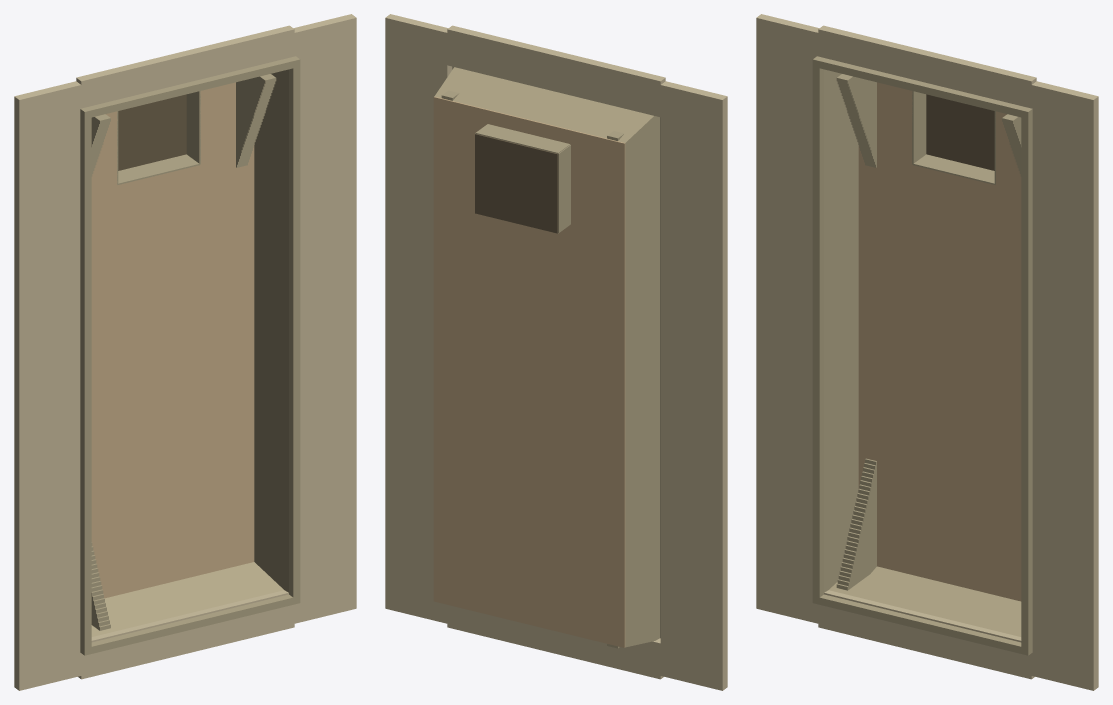
Rendered from dholavira-reservoir.obj.
3 views of the same model, side by side, from view 1: azimuth 30°, elevation 25°; view 2: azimuth 150°, elevation 25°; view 3: azimuth 330°, elevation 25° (orthographic).
Visible parts, largest first — view 1: basin_8, ground_0, ground_1, basin_5, ground_3, basin_14, basin_15, ground_2, basin_4, probe_16, basin_13, basin_10 (+4 smaller); view 2: basin_8, ground_0, ground_1, basin_7, ground_3, probe_16, basin_6, ground_2, basin_9, basin_10, basin_11, probe_20 (+1 smaller); view 3: basin_8, ground_1, ground_0, basin_7, ground_3, basin_15, basin_14, ground_2, basin_4, probe_16, basin_13, basin_9 (+4 smaller).
Boxes of the visible parts, left/top/right/bottom form: basin_8: left=91, top=151, right=254, bottom=598; ground_0: left=14, top=81, right=81, bottom=690; ground_1: left=293, top=14, right=356, bottom=623; basin_5: left=254, top=69, right=288, bottom=592; ground_3: left=76, top=25, right=294, bottom=108; basin_14: left=80, top=116, right=91, bottom=648; basin_15: left=289, top=67, right=300, bottom=597; ground_2: left=78, top=590, right=294, bottom=679; basin_4: left=91, top=562, right=283, bottom=636; probe_16: left=118, top=94, right=186, bottom=170; basin_13: left=80, top=56, right=300, bottom=118; basin_10: left=200, top=82, right=254, bottom=163; basin_8: left=433, top=191, right=625, bottom=647; ground_0: left=660, top=81, right=727, bottom=690; ground_1: left=385, top=14, right=452, bottom=623; basin_7: left=625, top=116, right=659, bottom=647; ground_3: left=447, top=25, right=665, bottom=117; probe_16: left=475, top=133, right=558, bottom=233; basin_6: left=434, top=67, right=653, bottom=142; ground_2: left=447, top=605, right=663, bottom=679; basin_9: left=570, top=130, right=625, bottom=237; basin_10: left=433, top=96, right=487, bottom=200; basin_11: left=487, top=109, right=570, bottom=143; probe_20: left=475, top=124, right=570, bottom=153; basin_8: left=858, top=151, right=1021, bottom=601; ground_1: left=1031, top=81, right=1098, bottom=690; ground_0: left=756, top=14, right=819, bottom=623; basin_7: left=824, top=69, right=858, bottom=592; ground_3: left=818, top=25, right=1036, bottom=108; basin_15: left=1021, top=116, right=1032, bottom=648; basin_14: left=812, top=67, right=823, bottom=597; ground_2: left=818, top=590, right=1034, bottom=679; basin_4: left=829, top=566, right=1021, bottom=636; probe_16: left=926, top=94, right=994, bottom=170; basin_13: left=812, top=56, right=1032, bottom=118; basin_9: left=858, top=82, right=912, bottom=163.
Bounding box in the file's own units: 49 × 83 × 11.9.
